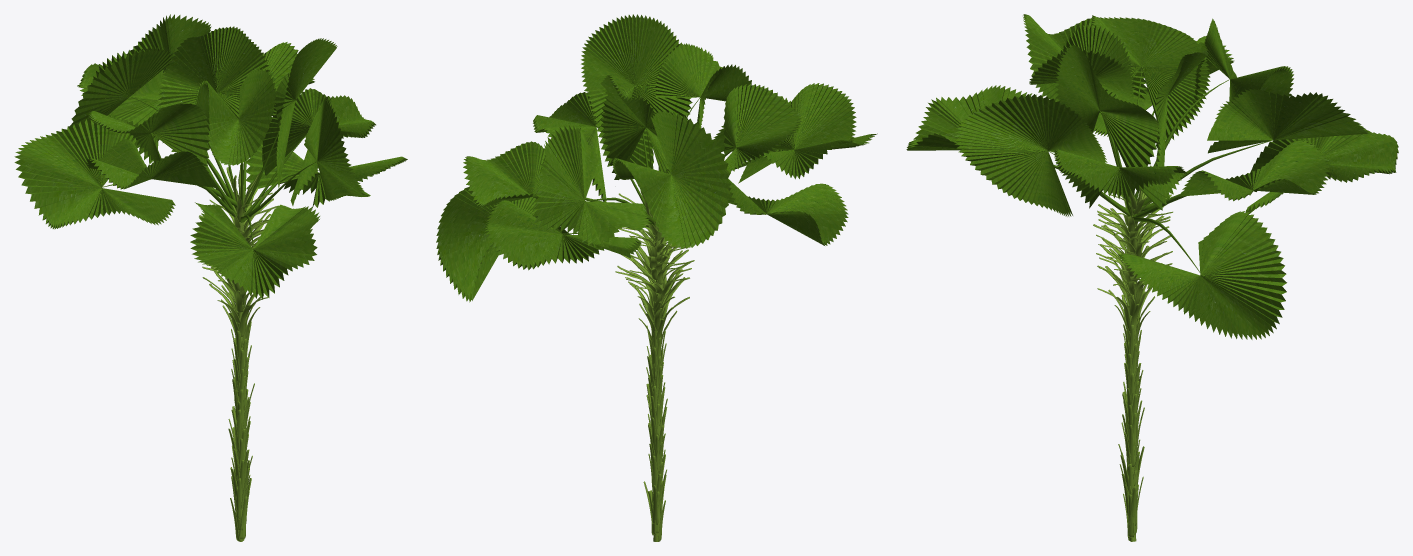
The picture shows the model from 3 angles, left to right: view 1: azimuth 30°, elevation 25°; view 2: azimuth 150°, elevation 25°; view 3: azimuth 270°, elevation 25°; orthographic projection. The views are drawn at different scales.
Parts seen in each view (by area): view 1: Leaves, TrunkandBranches; view 2: Leaves, TrunkandBranches; view 3: Leaves, TrunkandBranches.
Part boxes in pixels (x1=…): Leaves: x1=14, y1=14, x2=407, y2=299; TrunkandBranches: x1=199, y1=164, x2=279, y2=541; Leaves: x1=436, y1=14, x2=877, y2=302; TrunkandBranches: x1=615, y1=185, x2=694, y2=541; Leaves: x1=906, y1=14, x2=1398, y2=339; TrunkandBranches: x1=1093, y1=165, x2=1172, y2=541.
Size of the model in its own units: 75.19 by 95 by 82.47.
